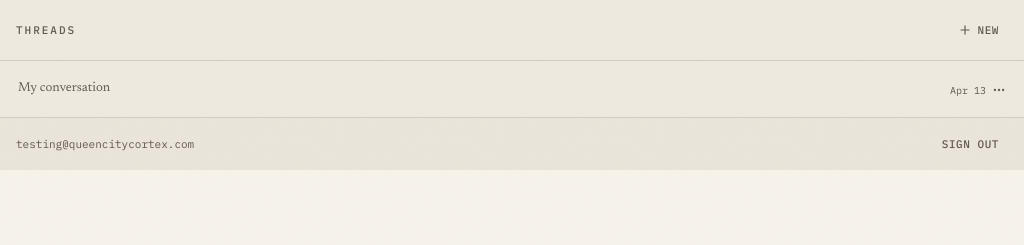
Test: ThreadSidebar › renders Rename / Duplicate / Export / Delete menu items
Click the button named "Thread actions for My conversation": (999, 90) [990,81,1008,99]
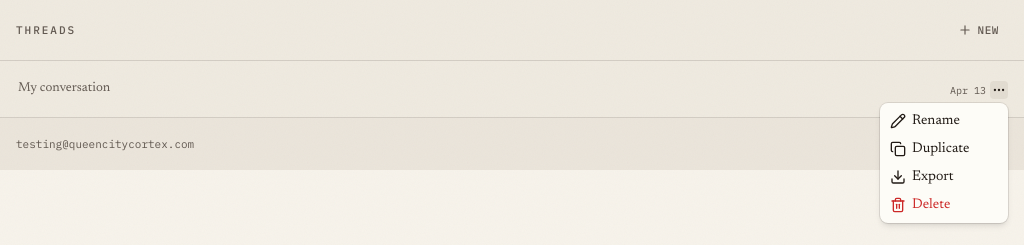
Expected: the menu item "Rename" is shown, [890,113,960,129]
Expected: the menu item "Duplicate" is shown, [890,141,970,157]
Expected: the menu item "Export" is shown, [890,169,954,185]
